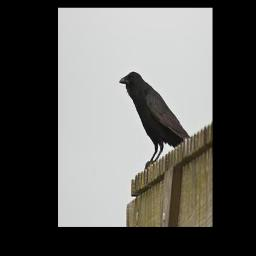Crow: (120, 69, 191, 170)
